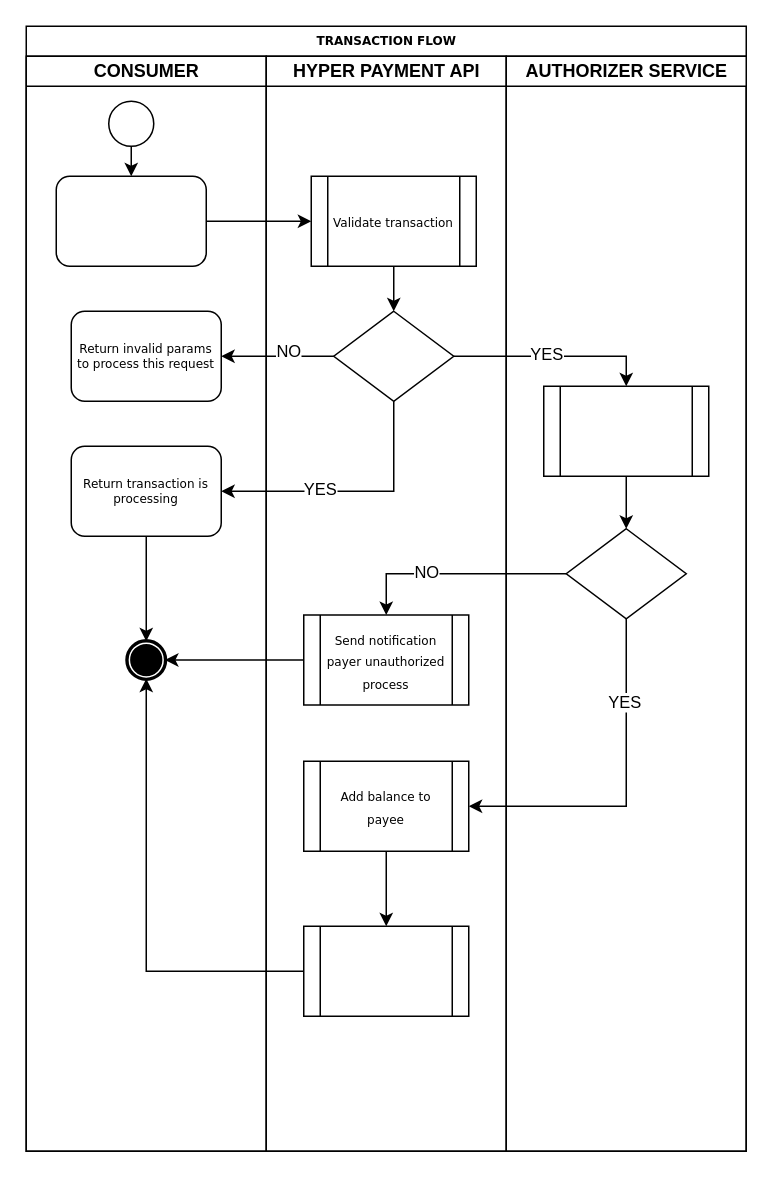
Some shapes in this 773 by 1178 pixel diagram are drawn without their labels. Here are the shapes that lost their labels. From the top down, the centre of each, then its label:
At point (130, 220): "Request transcation".
At point (393, 355): "Is valid transaction?".
At point (625, 430): "Authorizer request".
At point (625, 573): "is it authorized?".
At point (385, 970): "Send notification to payee new transaction received".
